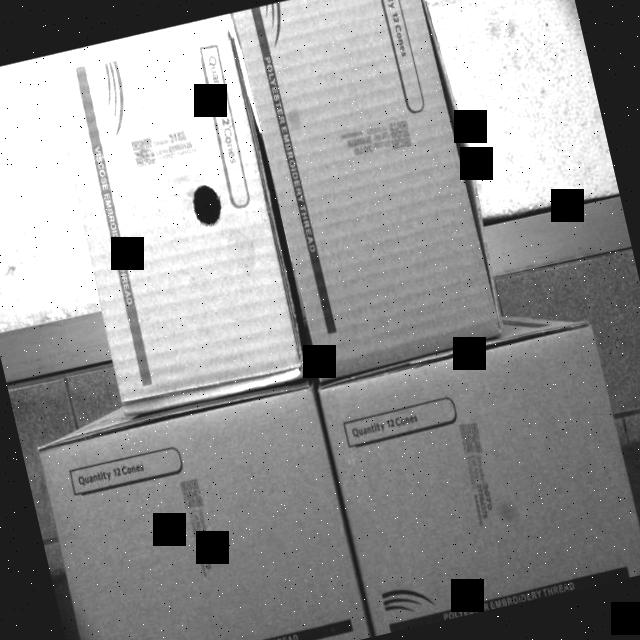box: (229, 0, 506, 377), (44, 24, 308, 415), (319, 321, 640, 634), (34, 383, 370, 640)
